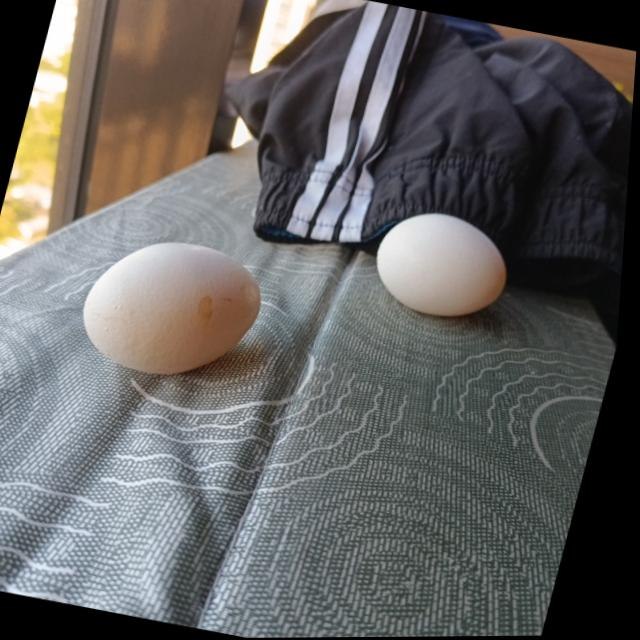egg: (75, 230, 275, 394), (370, 203, 529, 327)
